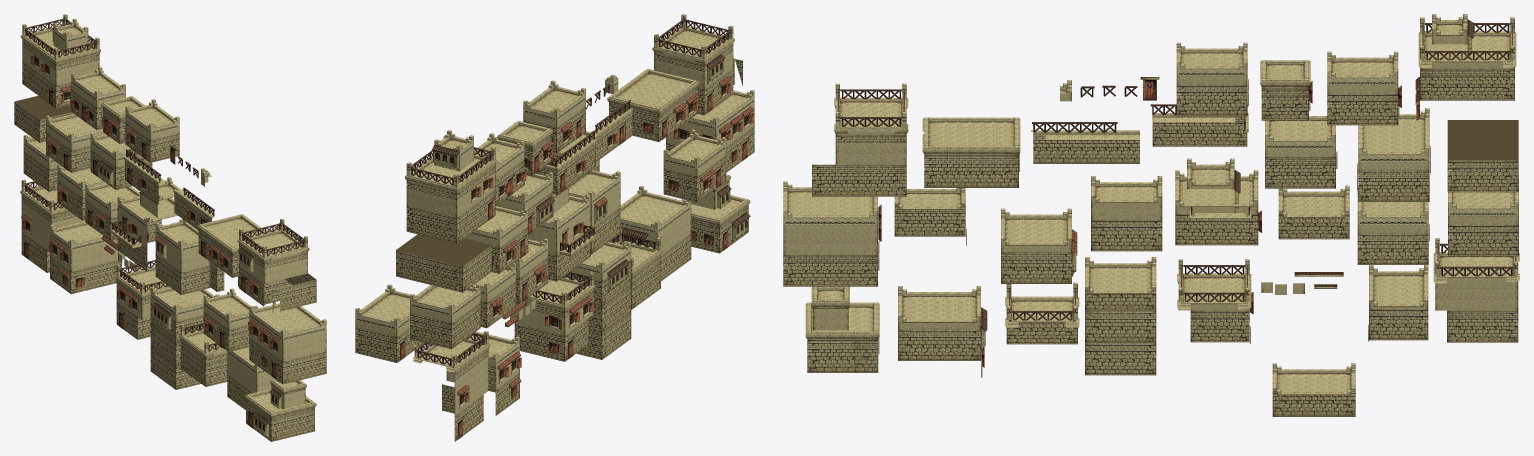
File: MbdMD_Co_T_Desert_S_A_House_C.FBX
3 renders of one model, left to right at view 1: azimuth 30°, elevation 25°; view 2: azimuth 150°, elevation 25°; view 3: azimuth 270°, elevation 25°, orthographic. The views are drawn at different scales.
Parts seen in each view (by area): view 1: MbdMD_Co_T_Desert_S_A_GuardRoom, MbdMD_Co_T_Desert_S_A_GeneralShop, MbdMD_Co_T_Desert_L_A_Pub, MbdMD_Co_T_Desert_L_A_Build_11, MbdMD_Co_T_Desert_L_A_Build_08, MbdMD_Co_T_Desert_S_A_Inn, MbdMD_Co_T_Desert_L_A_Build_10, MbdMD_Co_T_Desert_L_A_Build_01, MbdMD_Co_T_Desert_L_A_Build_12, MbdMD_Co_T_Desert_S_A_House_C, MbdMD_Co_T_Desert_L_A_Build_02, MbdMD_Co_T_Desert_L_A_GuardRoom (+15 smaller); view 2: MbdMD_Co_T_Desert_L_A_Pub, MbdMD_Co_T_Desert_S_A_GeneralShop, MbdMD_Co_T_Desert_L_A_Build_02, MbdMD_Co_T_Desert_L_A_Build_11, MbdMD_Co_T_Desert_S_A_Pub, MbdMD_Co_T_Desert_L_A_Build_12, MbdMD_Co_T_Desert_L_A_House_AA, MbdMD_Co_T_Desert_L_A_GuardRoom_B, MbdMD_Co_T_Desert_L_A_Build_05, MbdMD_Co_T_Desert_L_A_GuardRoom, MbdMD_Co_T_Desert_L_A_Build_01, MbdMD_Co_T_Desert_L_A_Build_09 (+14 smaller); view 3: MbdMD_Co_T_Desert_S_A_GuardRoom, MbdMD_Co_T_Desert_S_A_GeneralShop, MbdMD_Co_T_Desert_L_A_Build_11, MbdMD_Co_T_Desert_L_A_Pub, MbdMD_Co_T_Desert_L_A_Build_12, MbdMD_Co_T_Desert_S_A_Pub, MbdMD_Co_T_Desert_L_A_Build_01, MbdMD_Co_T_Desert_L_A_GuardRoom_B, MbdMD_Co_T_Desert_L_A_House_A, MbdMD_Co_T_Desert_S_A_Inn, MbdMD_Co_T_Desert_L_A_Build_02, MbdMD_Co_T_Desert_L_A_Build_03 (+15 smaller).
Part boxes in pixels (left/top/right/bottom): MbdMD_Co_T_Desert_S_A_GuardRoom: left=248, top=303, right=326, bottom=384; MbdMD_Co_T_Desert_S_A_GeneralShop: left=237, top=218, right=316, bottom=312; MbdMD_Co_T_Desert_L_A_Pub: left=20, top=14, right=100, bottom=108; MbdMD_Co_T_Desert_L_A_Build_11: left=150, top=287, right=219, bottom=389; MbdMD_Co_T_Desert_L_A_Build_08: left=49, top=221, right=121, bottom=294; MbdMD_Co_T_Desert_S_A_Inn: left=244, top=379, right=316, bottom=441; MbdMD_Co_T_Desert_L_A_Build_10: left=155, top=219, right=210, bottom=294; MbdMD_Co_T_Desert_L_A_Build_01: left=110, top=177, right=183, bottom=271; MbdMD_Co_T_Desert_L_A_Build_12: left=20, top=179, right=85, bottom=272; MbdMD_Co_T_Desert_S_A_House_C: left=125, top=99, right=179, bottom=162; MbdMD_Co_T_Desert_L_A_Build_02: left=115, top=260, right=169, bottom=339; MbdMD_Co_T_Desert_L_A_GuardRoom: left=203, top=288, right=257, bottom=351; MbdMD_Co_T_Desert_L_A_Pub: left=405, top=130, right=497, bottom=243; MbdMD_Co_T_Desert_S_A_GeneralShop: left=652, top=14, right=742, bottom=115; MbdMD_Co_T_Desert_L_A_Build_02: left=514, top=272, right=595, bottom=361; MbdMD_Co_T_Desert_L_A_Build_11: left=564, top=241, right=631, bottom=359; MbdMD_Co_T_Desert_S_A_Pub: left=607, top=68, right=699, bottom=141; MbdMD_Co_T_Desert_L_A_Build_12: left=413, top=331, right=490, bottom=441; MbdMD_Co_T_Desert_L_A_House_AA: left=396, top=234, right=491, bottom=292; MbdMD_Co_T_Desert_L_A_GuardRoom_B: left=610, top=186, right=691, bottom=280; MbdMD_Co_T_Desert_L_A_Build_05: left=410, top=283, right=480, bottom=349; MbdMD_Co_T_Desert_L_A_GuardRoom: left=663, top=129, right=726, bottom=202; MbdMD_Co_T_Desert_L_A_Build_01: left=528, top=186, right=596, bottom=281; MbdMD_Co_T_Desert_L_A_Build_09: left=355, top=284, right=424, bottom=362; MbdMD_Co_T_Desert_S_A_GuardRoom: left=783, top=181, right=881, bottom=286; MbdMD_Co_T_Desert_S_A_GeneralShop: left=812, top=83, right=908, bottom=196; MbdMD_Co_T_Desert_L_A_Build_11: left=1085, top=257, right=1156, bottom=375; MbdMD_Co_T_Desert_L_A_Pub: left=1415, top=14, right=1516, bottom=120; MbdMD_Co_T_Desert_L_A_Build_12: left=1433, top=238, right=1519, bottom=342; MbdMD_Co_T_Desert_S_A_Pub: left=922, top=117, right=1020, bottom=187; MbdMD_Co_T_Desert_L_A_Build_01: left=1175, top=158, right=1261, bottom=245; MbdMD_Co_T_Desert_L_A_GuardRoom_B: left=898, top=286, right=987, bottom=377; MbdMD_Co_T_Desert_L_A_House_A: left=1357, top=108, right=1430, bottom=201; MbdMD_Co_T_Desert_S_A_Inn: left=805, top=286, right=879, bottom=372; MbdMD_Co_T_Desert_L_A_Build_02: left=1177, top=259, right=1253, bottom=343; MbdMD_Co_T_Desert_L_A_Build_03: left=1001, top=208, right=1077, bottom=283.
Size of the model in its own units: 2219 by 3451 by 6215.
